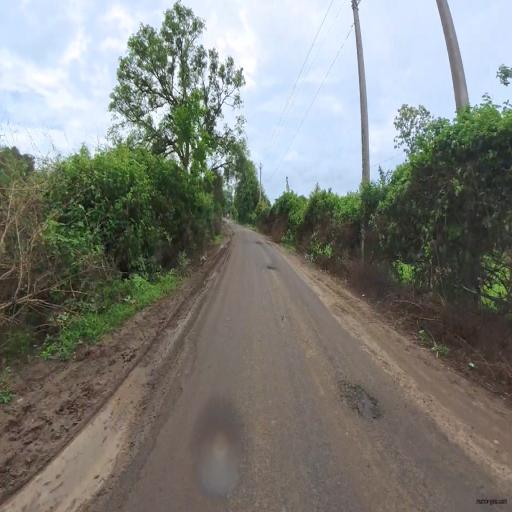pothole: (328, 359, 384, 460)
